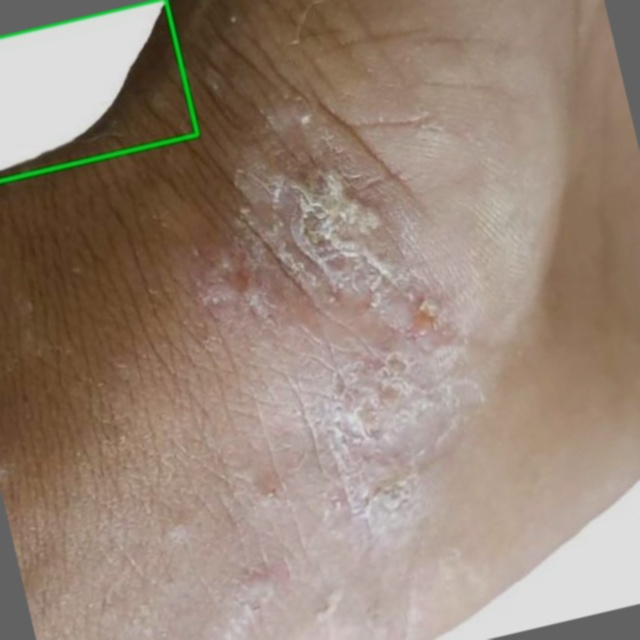Scabies: (0, 0, 197, 181)
